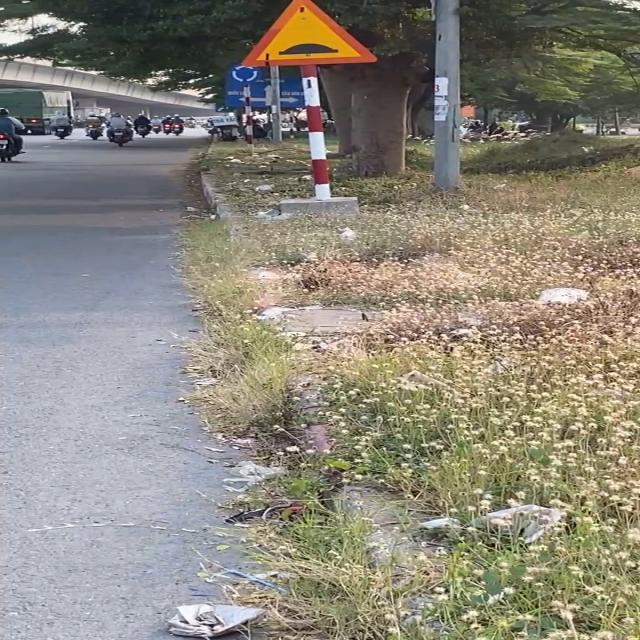221-duong-go-ghe: (238, 0, 379, 66)
303-noi-giao-nhau-chay-theo-vong-xuyen: (228, 64, 260, 85)
